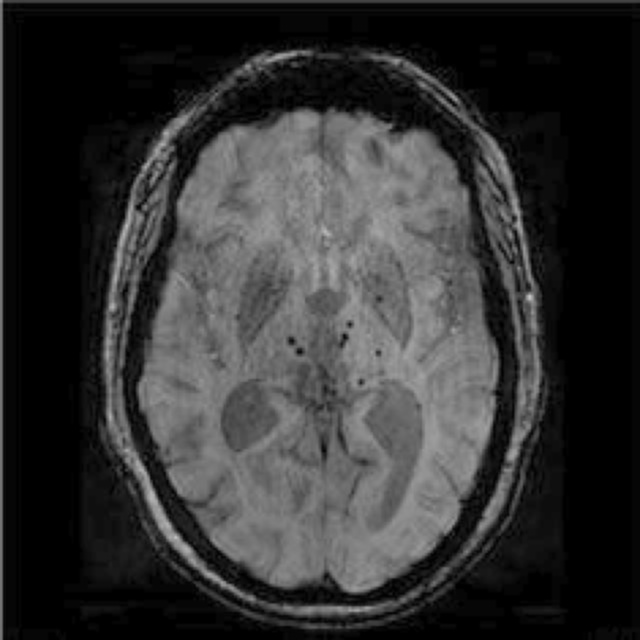glioma tumor: (172, 115, 476, 542)
